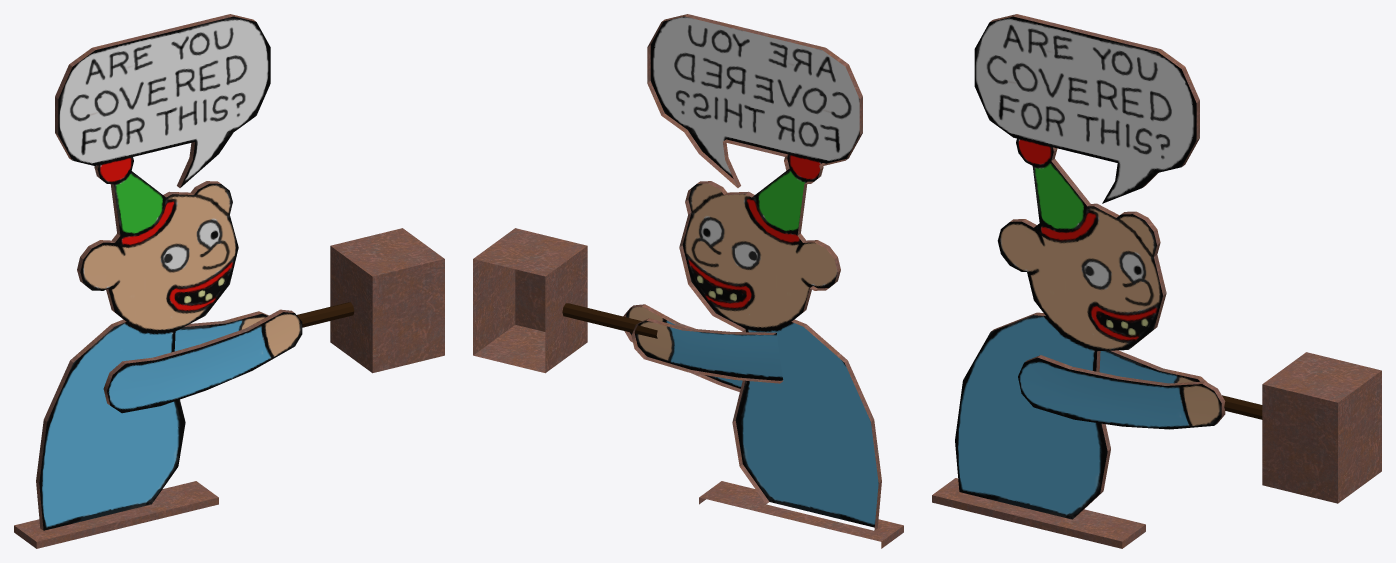
File: KrusherKlownLeft.fbx
3 renders of one model, left to right at view 1: azimuth 30°, elevation 25°; view 2: azimuth 150°, elevation 25°; view 3: azimuth 330°, elevation 25°, orthographic. The views are drawn at different scales.
Parts seen in each view (by area): view 1: Body, Hammer; view 2: Body, Hammer; view 3: Body, Hammer.
Boxes of the visible parts, box(x1,y1,x2,y2) form: Body: box(14, 14, 270, 548); Hammer: box(103, 228, 444, 413); Body: box(647, 14, 903, 548); Hammer: box(473, 228, 783, 391); Body: box(932, 14, 1199, 548); Hammer: box(1018, 350, 1381, 503).
Size of the model in its own units: 10.21 by 11.63 by 1.87.
